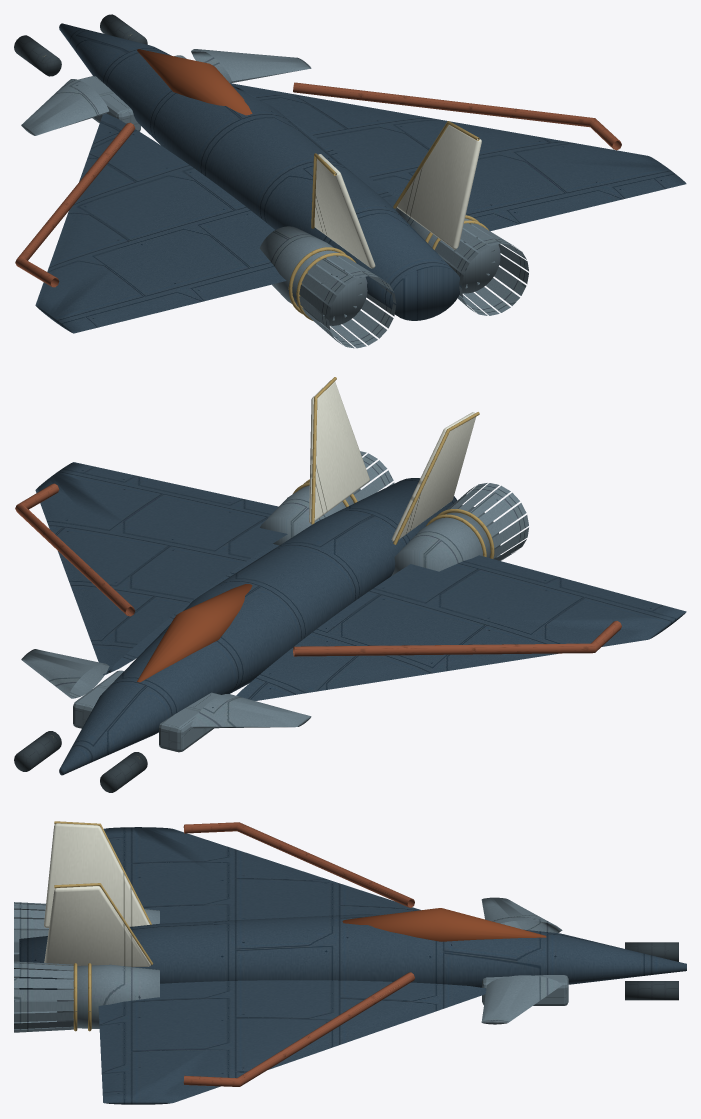
Rendered from interceptor.glb.
The picture shows the model from 3 angles, top to bottom: view 1: azimuth 30°, elevation 25°; view 2: azimuth 150°, elevation 25°; view 3: azimuth 270°, elevation 25°; orthographic projection. The views are drawn at different scales.
Parts seen in each view (by area): view 1: core-navy-surfaces, core-titanium-surfaces, core-ceramic-surfaces, core-hostile-surfaces, core-enemyglass-surfaces, core-brass-surfaces, core-graphite-surfaces; view 2: core-navy-surfaces, core-titanium-surfaces, core-ceramic-surfaces, core-hostile-surfaces, core-enemyglass-surfaces, core-graphite-surfaces, core-brass-surfaces; view 3: core-navy-surfaces, core-titanium-surfaces, core-ceramic-surfaces, core-hostile-surfaces, core-enemyglass-surfaces, core-graphite-surfaces, core-brass-surfaces.
Part boxes in pixels (box(x1,y1,x2,y2)): core-navy-surfaces: box(35, 23, 686, 333); core-titanium-surfaces: box(21, 49, 528, 348); core-ceramic-surfaces: box(314, 124, 481, 268); core-hostile-surfaces: box(15, 82, 621, 287); core-enemyglass-surfaces: box(137, 49, 252, 115); core-brass-surfaces: box(288, 121, 488, 320); core-graphite-surfaces: box(14, 14, 147, 76); core-navy-surfaces: box(35, 462, 686, 775); core-titanium-surfaces: box(21, 451, 528, 752); core-ceramic-surfaces: box(309, 380, 475, 541); core-hostile-surfaces: box(15, 483, 621, 656); core-enemyglass-surfaces: box(137, 584, 252, 682); core-graphite-surfaces: box(14, 731, 147, 792); core-brass-surfaces: box(293, 377, 494, 558); core-navy-surfaces: box(19, 827, 686, 1104); core-titanium-surfaces: box(14, 897, 568, 1032); core-ceramic-surfaces: box(44, 823, 150, 966); core-hostile-surfaces: box(183, 822, 414, 1086); core-enemyglass-surfaces: box(342, 908, 546, 941); core-graphite-surfaces: box(625, 942, 678, 1000); core-brass-surfaces: box(54, 821, 152, 1031).
Bounding box in the file's own units: 6 × 1.49 × 6.22.
7 materials, 6 textured.
